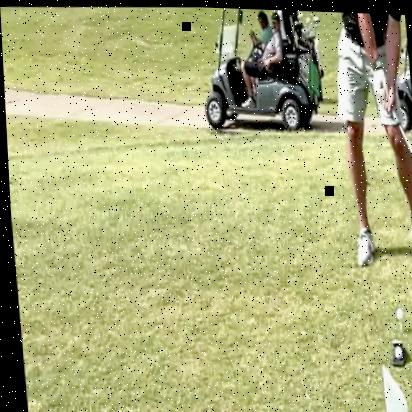ClubHead: (392, 304, 402, 318)
